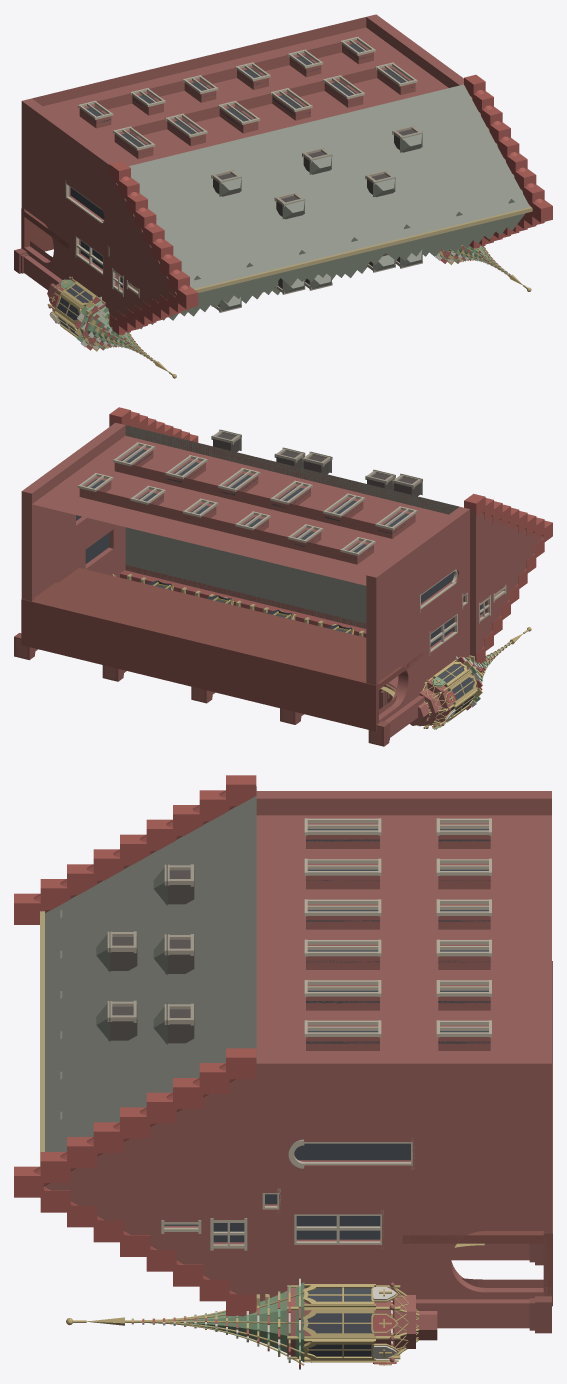
The model's file is kaufhaus_measured.glb.
3 renders of one model, top to bottom at view 1: azimuth 30°, elevation 25°; view 2: azimuth 150°, elevation 25°; view 3: azimuth 270°, elevation 25°, orthographic. The views are drawn at different scales.
Parts seen in each view (by area): view 1: dach, waende, krabben, dachrauten, seitenrahmen, giebel, gauben_dach, helm, seitenglas, first, helm_gruen, gauben_rahmen (+6 smaller); view 2: waende, laube, dach, giebel, seitenrahmen, krabben, seitenglas, helm, fassade, balken, piers, gauben (+4 smaller); view 3: waende, dach, giebel, krabben, seitenrahmen, seitenglas, helm, piers, gauben, helm_gruen, fenster, erker (+8 smaller).
Boxes of the visible parts, left/top/right/bottom form: dach: left=129, top=84, right=530, bottom=288; waende: left=21, top=14, right=463, bottom=311; krabben: left=109, top=74, right=552, bottom=334; dachrauten: left=140, top=199, right=525, bottom=329; seitenrahmen: left=65, top=36, right=417, bottom=274; giebel: left=109, top=96, right=505, bottom=318; gauben_dach: left=219, top=131, right=422, bottom=312; helm: left=47, top=245, right=531, bottom=378; seitenglas: left=70, top=42, right=412, bottom=269; first: left=194, top=207, right=532, bottom=292; helm_gruen: left=61, top=245, right=509, bottom=359; gauben_rahmen: left=211, top=125, right=422, bottom=312; waende: left=21, top=422, right=469, bottom=722; laube: left=21, top=567, right=423, bottom=731; dach: left=125, top=425, right=458, bottom=628; giebel: left=109, top=421, right=542, bottom=660; seitenrahmen: left=78, top=442, right=467, bottom=655; krabben: left=109, top=407, right=552, bottom=664; seitenglas: left=76, top=448, right=453, bottom=646; helm: left=111, top=574, right=531, bottom=729; fassade: left=125, top=565, right=398, bottom=714; balken: left=120, top=570, right=366, bottom=637; piers: left=16, top=639, right=424, bottom=743; gauben: left=213, top=433, right=419, bottom=496; waende: left=256, top=791, right=551, bottom=1300; dach: left=45, top=791, right=256, bottom=1225; giebel: left=44, top=786, right=256, bottom=1304; krabben: left=14, top=775, right=256, bottom=1316; seitenrahmen: left=262, top=818, right=491, bottom=1248; seitenglas: left=265, top=829, right=490, bottom=1239; helm: left=66, top=1284, right=419, bottom=1365; piers: left=416, top=1243, right=529, bottom=1328; gauben: left=108, top=869, right=194, bottom=1043; helm_gruen: left=132, top=1282, right=304, bottom=1362; fenster: left=307, top=1288, right=373, bottom=1356; erker: left=287, top=1282, right=437, bottom=1362.
Bounding box in the file's own units: 24.16 × 11.22 × 17.53.
